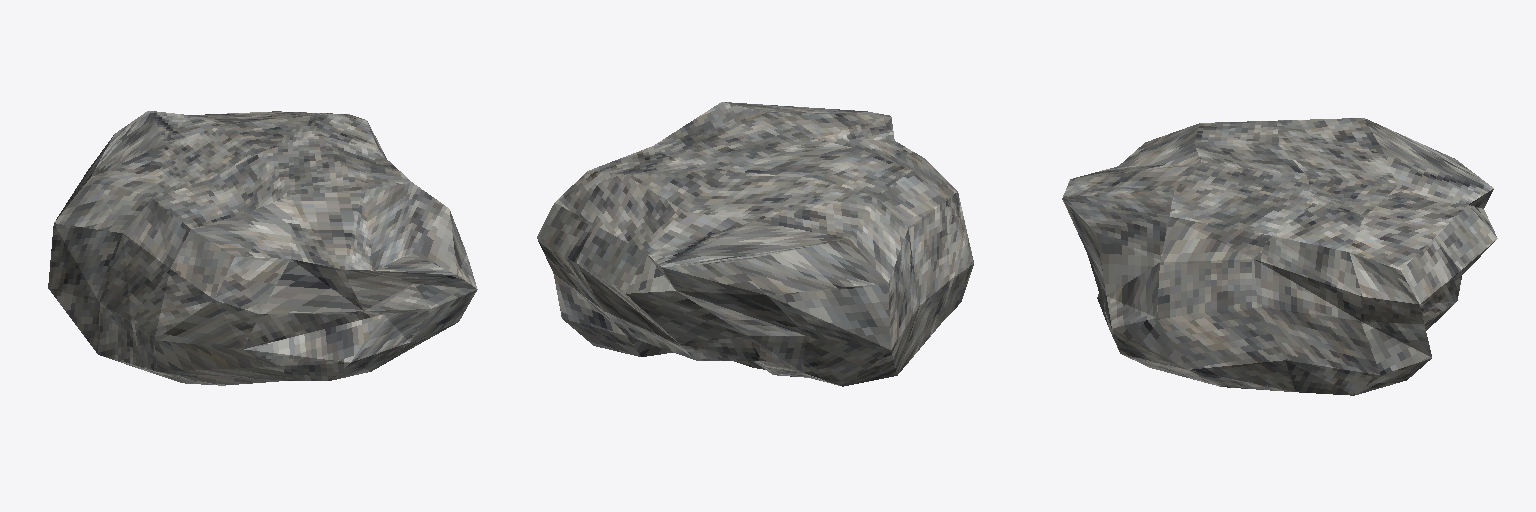
3 renders of one model, left to right at view 1: azimuth 30°, elevation 25°; view 2: azimuth 150°, elevation 25°; view 3: azimuth 270°, elevation 25°, orthographic.
Parts seen in each view (by area): view 1: rock; view 2: rock; view 3: rock.
Part boxes in pixels (left/top/right/bottom): rock: left=48, top=111, right=477, bottom=385; rock: left=537, top=102, right=973, bottom=386; rock: left=1062, top=118, right=1497, bottom=395.
Size of the model in its own units: 3.18 by 1.68 by 3.63.
1 materials, 1 textured.